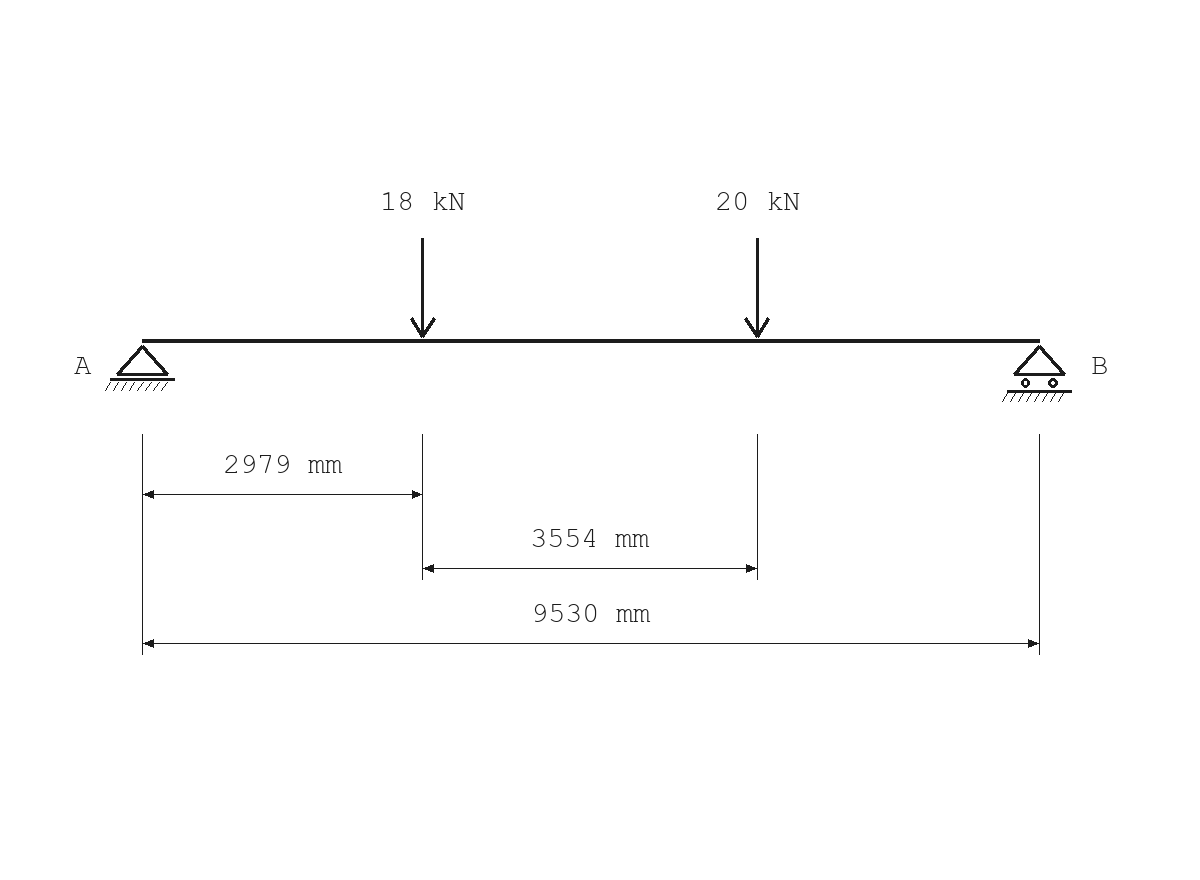pin_support: (105, 345, 175, 391)
point_load: (410, 238, 436, 338), (744, 238, 770, 338)
roller_support: (1002, 345, 1072, 402)
